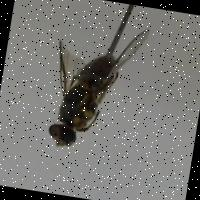Oriental-fruit-fly: (36, 9, 158, 161)
